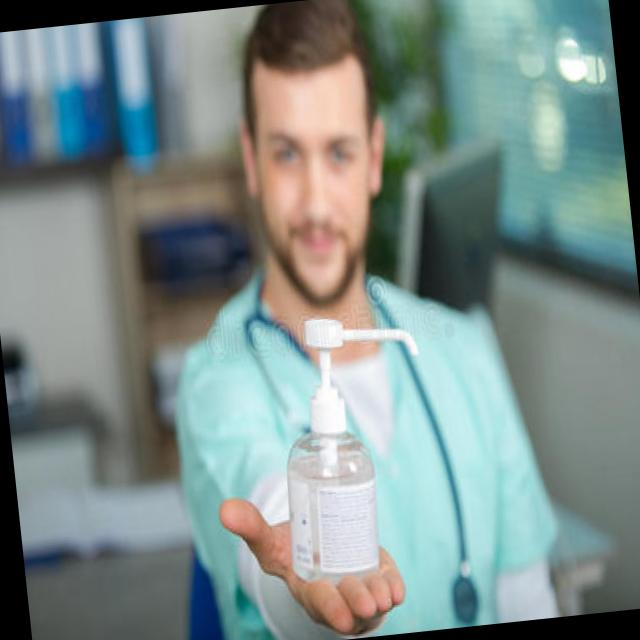sanitizer: (258, 302, 434, 588)
